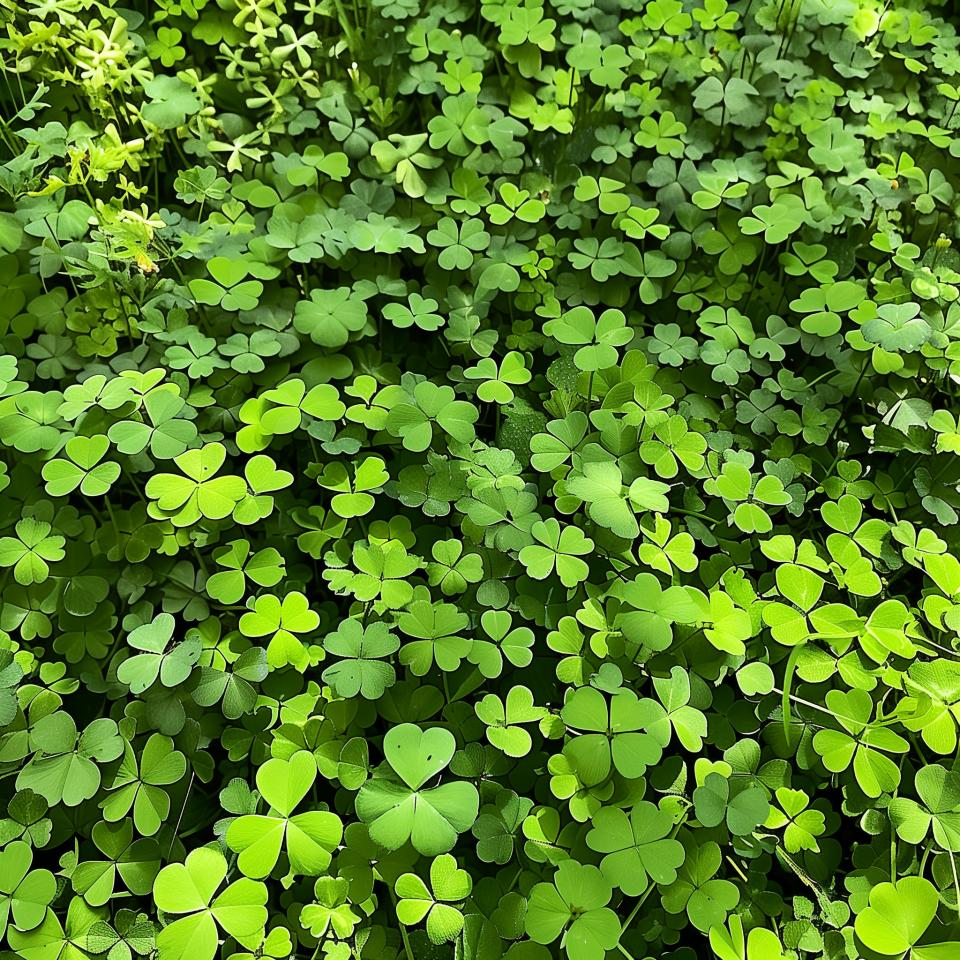Four-Leaf: (560, 683, 661, 789), (589, 798, 685, 894), (98, 732, 187, 835), (323, 618, 398, 701), (516, 517, 590, 586), (293, 283, 368, 347), (419, 535, 484, 605), (764, 786, 831, 853), (0, 514, 65, 583), (641, 314, 710, 376), (428, 92, 496, 150)
